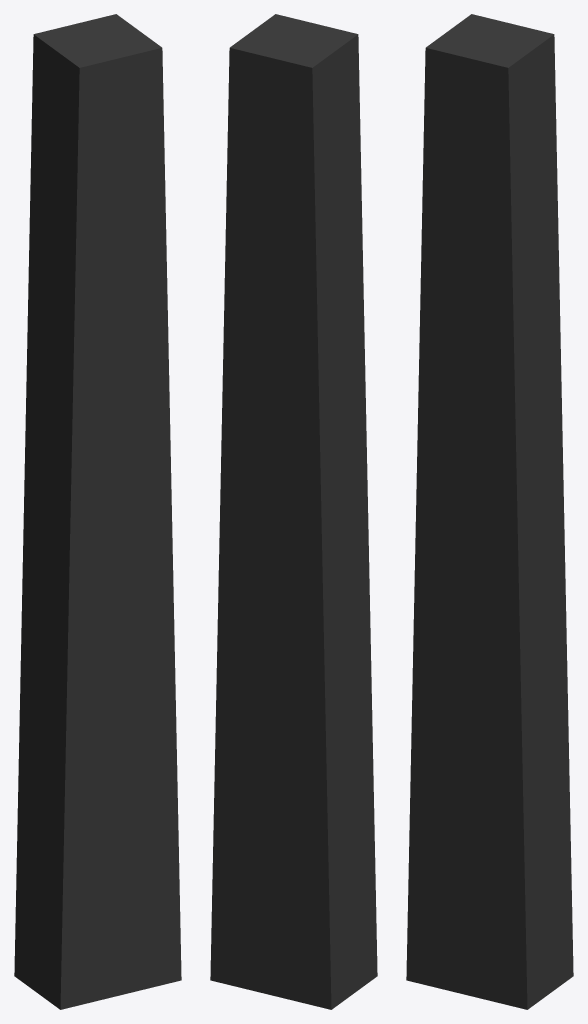
File: Clock2_C1_03.fbx
3 renders of one model, left to right at view 1: azimuth 30°, elevation 25°; view 2: azimuth 150°, elevation 25°; view 3: azimuth 330°, elevation 25°, orthographic.
Parts seen in each view (by area): view 1: Clock2_C1_03; view 2: Clock2_C1_03; view 3: Clock2_C1_03.
Boxes of the visible parts, bbox=[...] form: Clock2_C1_03: bbox=[14, 14, 181, 1009]; Clock2_C1_03: bbox=[210, 14, 377, 1009]; Clock2_C1_03: bbox=[406, 14, 573, 1009].
Size of the model in its own units: 1.13 by 8.34 by 0.7428.
